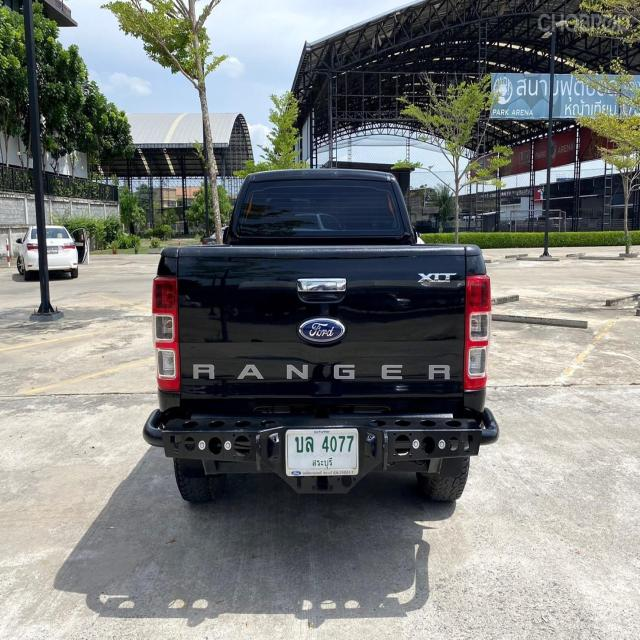license_plate: (282, 427, 361, 479)
